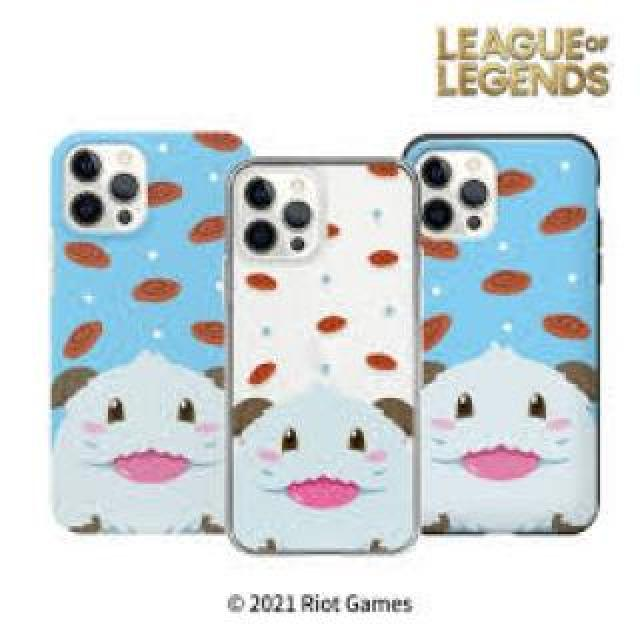smart phone: (416, 110, 606, 555), (32, 125, 230, 545), (233, 138, 420, 580)
